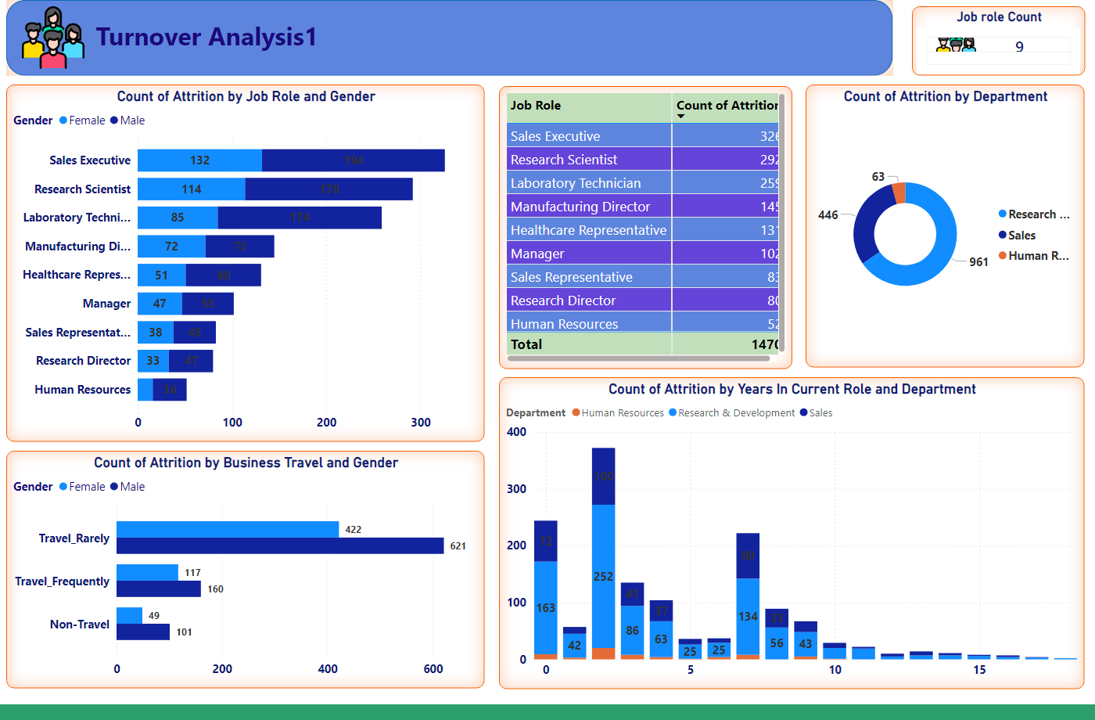

This screenshot's page, from the dashboard's own definition file:
{"tool":"powerbi","page":{"name":"Turnover analysis1","canvas":[1400,900],"ordinal":2},"visuals":[{"type":"cardVisual","title":"Job role Count","fields":{"Data":["Count(HR-Employee-Attrition.Job Role)"]},"box":[1165,8.3,221.7,88.3],"z":0},{"type":"shape","box":[8.3,0,1133.3,96.7],"z":1000},{"type":"textbox","box":[83.3,18.3,361.7,58.3],"z":2000},{"type":"image","box":[28.3,8.3,80,80],"z":3000},{"type":"barChart","fields":{"Category":["HR-Employee-Attrition.Job Role"],"Y":["CountNonNull(HR-Employee-Attrition.Attrition)"],"Series":["HR-Employee-Attrition.Gender"]},"box":[8.3,108.3,611.7,456.7],"z":4000},{"type":"donutChart","fields":{"Category":["HR-Employee-Attrition.Department"],"Y":["CountNonNull(HR-Employee-Attrition.Attrition)"]},"box":[1030,108.3,356.7,361.7],"z":5000},{"type":"columnChart","fields":{"Y":["CountNonNull(HR-Employee-Attrition.Attrition)"],"Category":["HR-Employee-Attrition.Years In Current Role"],"Series":["HR-Employee-Attrition.Department"]},"box":[638.3,481.7,748.3,398.3],"z":6000},{"type":"clusteredBarChart","fields":{"Y":["CountNonNull(HR-Employee-Attrition.Attrition)"],"Category":["HR-Employee-Attrition.Business Travel"],"Series":["HR-Employee-Attrition.Gender"]},"box":[8.3,576.7,611.7,303.3],"z":7000},{"type":"tableEx","fields":{"Values":["HR-Employee-Attrition.Job Role","HR-Employee-Attrition.Attrition"]},"box":[637.5,110,375,361.7],"z":8000}]}

Visuals, with their boxes in screenshot pixels (x1, y1, x2, y2), scaled from the page's 1400x900 canvas onto the 1095x720 screenshot:
"Job role Count" cardVisual: (x1=911, y1=7, x2=1085, y2=77)
shape: (x1=6, y1=0, x2=893, y2=77)
textbox: (x1=65, y1=15, x2=348, y2=61)
image: (x1=22, y1=7, x2=85, y2=71)
barChart - HR-Employee-Attrition.Job Role x CountNonNull(HR-Employee-Attrition.Attrition): (x1=6, y1=87, x2=485, y2=452)
donutChart - HR-Employee-Attrition.Department x CountNonNull(HR-Employee-Attrition.Attrition): (x1=806, y1=87, x2=1085, y2=376)
columnChart - CountNonNull(HR-Employee-Attrition.Attrition) x HR-Employee-Attrition.Years In Current Role: (x1=499, y1=385, x2=1085, y2=704)
clusteredBarChart - CountNonNull(HR-Employee-Attrition.Attrition) x HR-Employee-Attrition.Business Travel: (x1=6, y1=461, x2=485, y2=704)
tableEx - HR-Employee-Attrition.Job Role x HR-Employee-Attrition.Attrition: (x1=499, y1=88, x2=792, y2=377)
